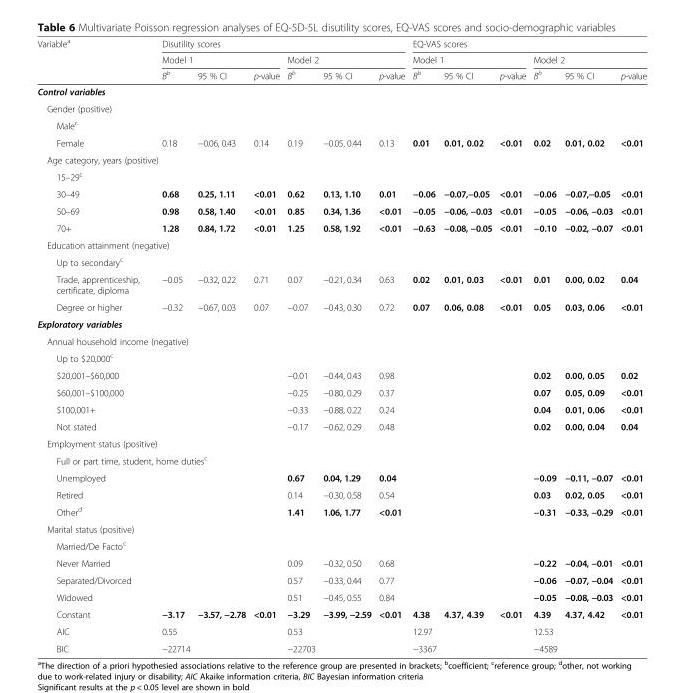table: (36, 36, 646, 653)
table column: (36, 36, 149, 653), (193, 36, 249, 653), (318, 36, 374, 653), (439, 36, 495, 653), (560, 36, 616, 653), (149, 36, 193, 653), (282, 36, 318, 653), (374, 36, 408, 653), (249, 36, 282, 653), (495, 36, 528, 653), (528, 36, 560, 653), (408, 36, 439, 653), (616, 36, 646, 653)
table column header: (36, 36, 646, 83)
table projected row header: (36, 252, 646, 270), (36, 348, 646, 366), (36, 536, 646, 554), (36, 99, 646, 116), (36, 116, 646, 133), (36, 167, 646, 184), (36, 315, 646, 332), (36, 434, 646, 451), (36, 451, 646, 468), (36, 83, 646, 99), (36, 151, 646, 167), (36, 236, 646, 252), (36, 332, 646, 348), (36, 520, 646, 536)
table row: (36, 270, 646, 298), (36, 133, 646, 151), (36, 184, 646, 202), (36, 252, 646, 270), (36, 348, 646, 366), (36, 502, 646, 520), (36, 536, 646, 554), (36, 66, 646, 83), (36, 99, 646, 116), (36, 116, 646, 133), (36, 167, 646, 184), (36, 202, 646, 219), (36, 219, 646, 236), (36, 298, 646, 315), (36, 315, 646, 332), (36, 366, 646, 383), (36, 383, 646, 400), (36, 400, 646, 417), (36, 417, 646, 434), (36, 434, 646, 451), (36, 451, 646, 468), (36, 468, 646, 485), (36, 485, 646, 502), (36, 554, 646, 571), (36, 571, 646, 588), (36, 588, 646, 605), (36, 605, 646, 622), (36, 622, 646, 639), (36, 83, 646, 99), (36, 151, 646, 167), (36, 236, 646, 252), (36, 332, 646, 348), (36, 520, 646, 536), (36, 36, 646, 51), (36, 51, 646, 66), (36, 639, 646, 653)
table spanning cell: (36, 36, 149, 83), (149, 36, 408, 51), (408, 36, 646, 51), (149, 51, 282, 66), (282, 51, 408, 66), (408, 51, 528, 66), (528, 51, 646, 66)
